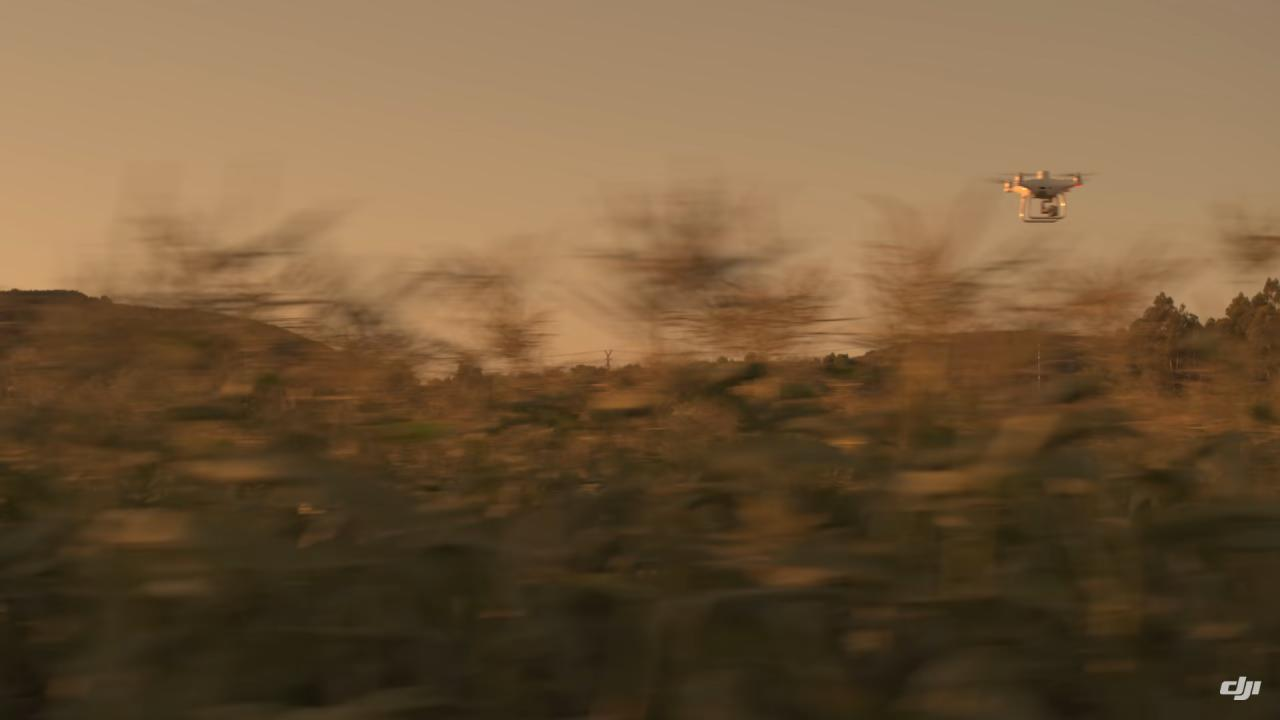Drone: (983, 158, 1108, 233)
